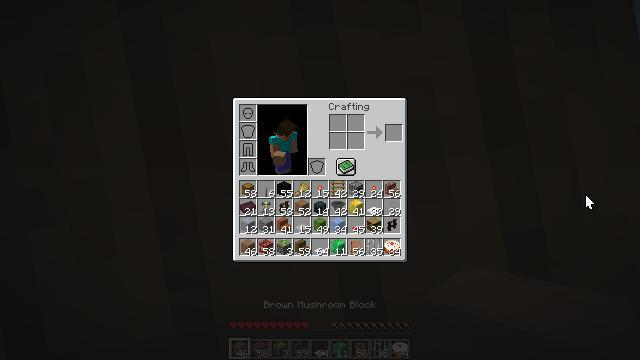cursor: (585, 194, 595, 210)
